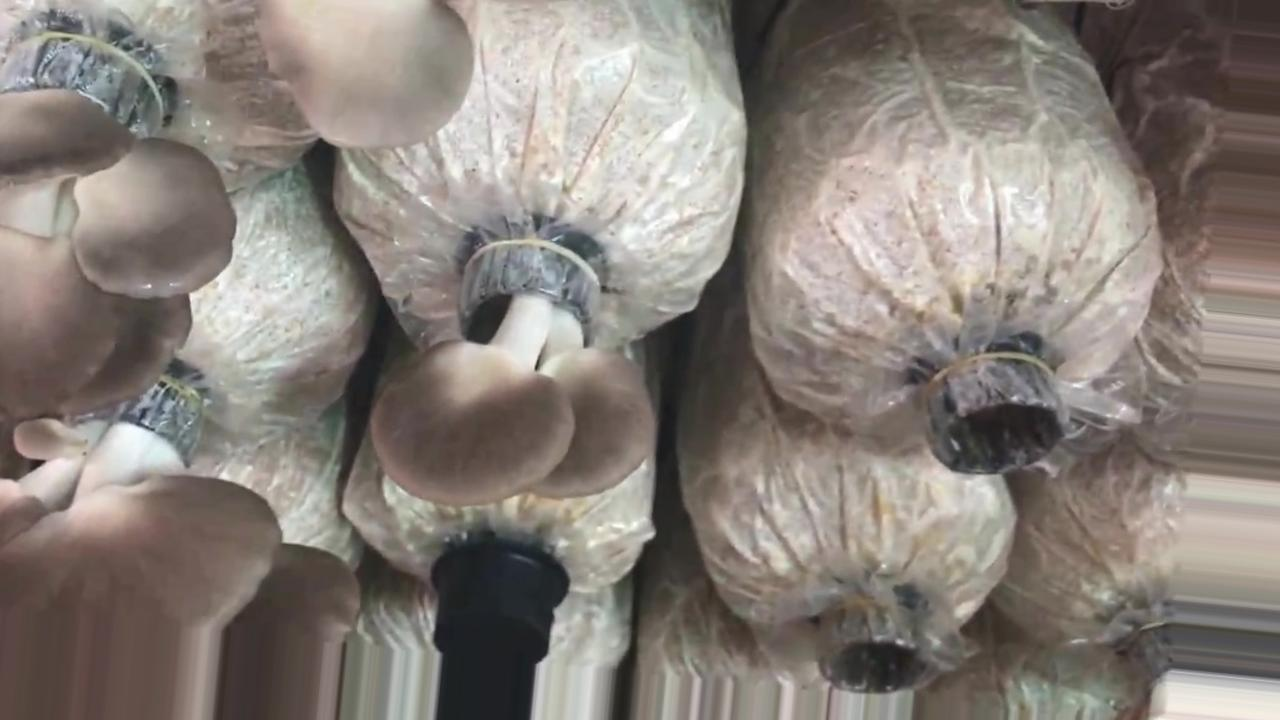nam: (3, 360, 360, 720), (1, 21, 238, 413), (373, 228, 660, 506), (263, 1, 477, 153)
